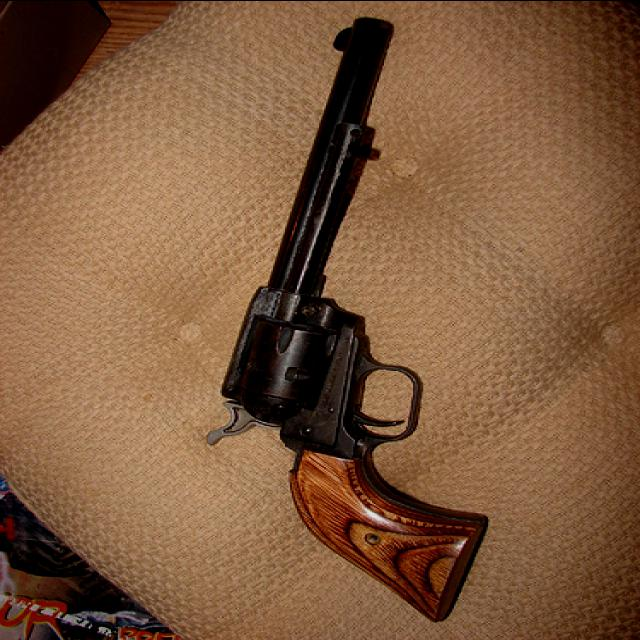handgun: (202, 17, 488, 631)
